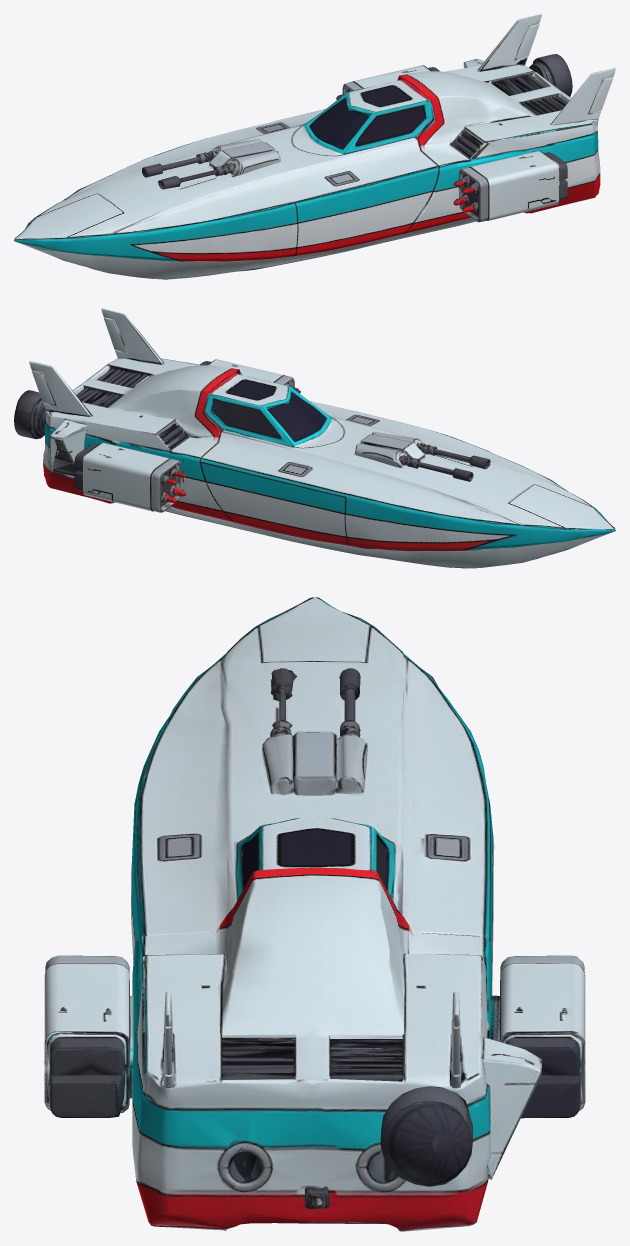
Rendered from hayate.glb.
3 renders of one model, top to bottom at view 1: azimuth 30°, elevation 25°; view 2: azimuth 150°, elevation 25°; view 3: azimuth 270°, elevation 25°, orthographic. The views are drawn at different scales.
Bounding box in the file's own units: 0.9536 × 0.1953 × 0.397.
1 material, 1 textured.
